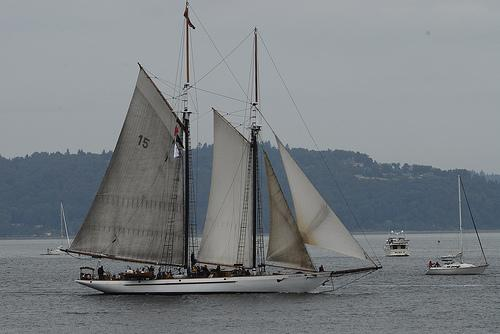Ship: (62, 10, 382, 297), (428, 175, 491, 278), (386, 231, 411, 258)
